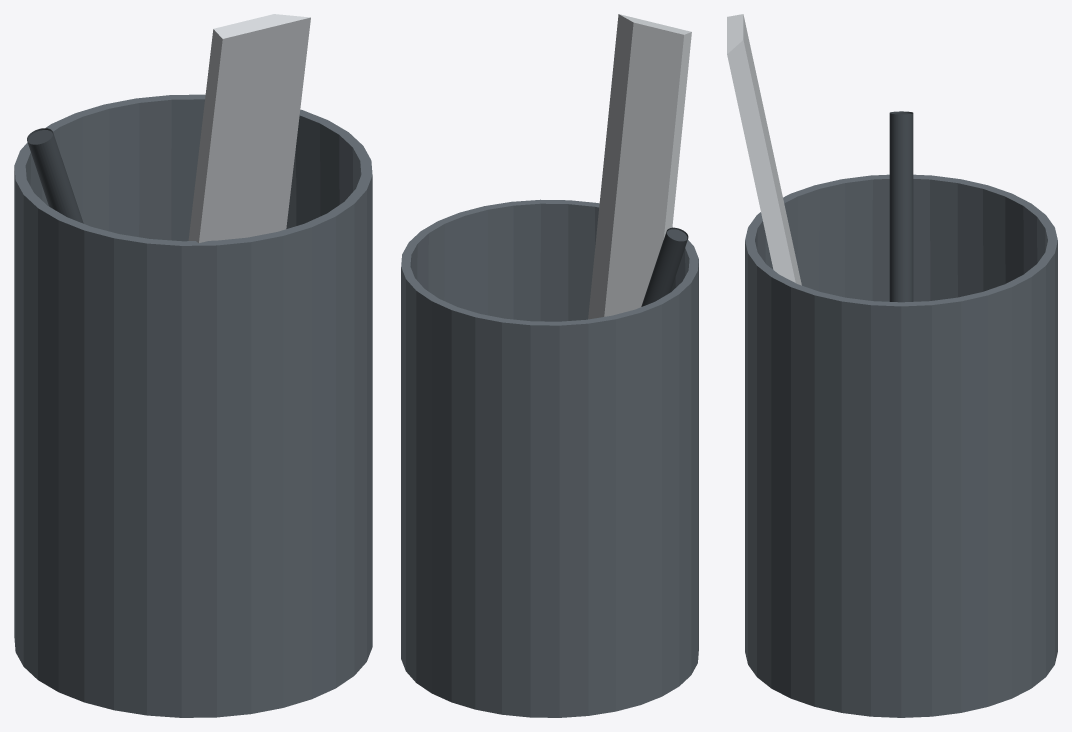
3 renders of one model, left to right at view 1: azimuth 30°, elevation 25°; view 2: azimuth 150°, elevation 25°; view 3: azimuth 270°, elevation 25°, orthographic. The views are drawn at different scales.
Visible parts, largest first — view 1: 柱体, 立方体, 柱体.001; view 2: 柱体, 立方体, 柱体.001; view 3: 柱体, 立方体, 柱体.001.
Boxes of the visible parts, x1,y1,x2,y2 form: 柱体: [14, 94, 372, 717]; 立方体: [188, 14, 310, 242]; 柱体.001: [27, 128, 83, 223]; 柱体: [401, 199, 698, 717]; 立方体: [588, 14, 691, 319]; 柱体.001: [641, 227, 688, 306]; 柱体: [745, 174, 1057, 717]; 立方体: [727, 14, 801, 285]; 柱体.001: [889, 111, 913, 302].
Bounding box in the file's own units: 356 × 741 × 366.
Materials: 3 (3 with a texture image).
